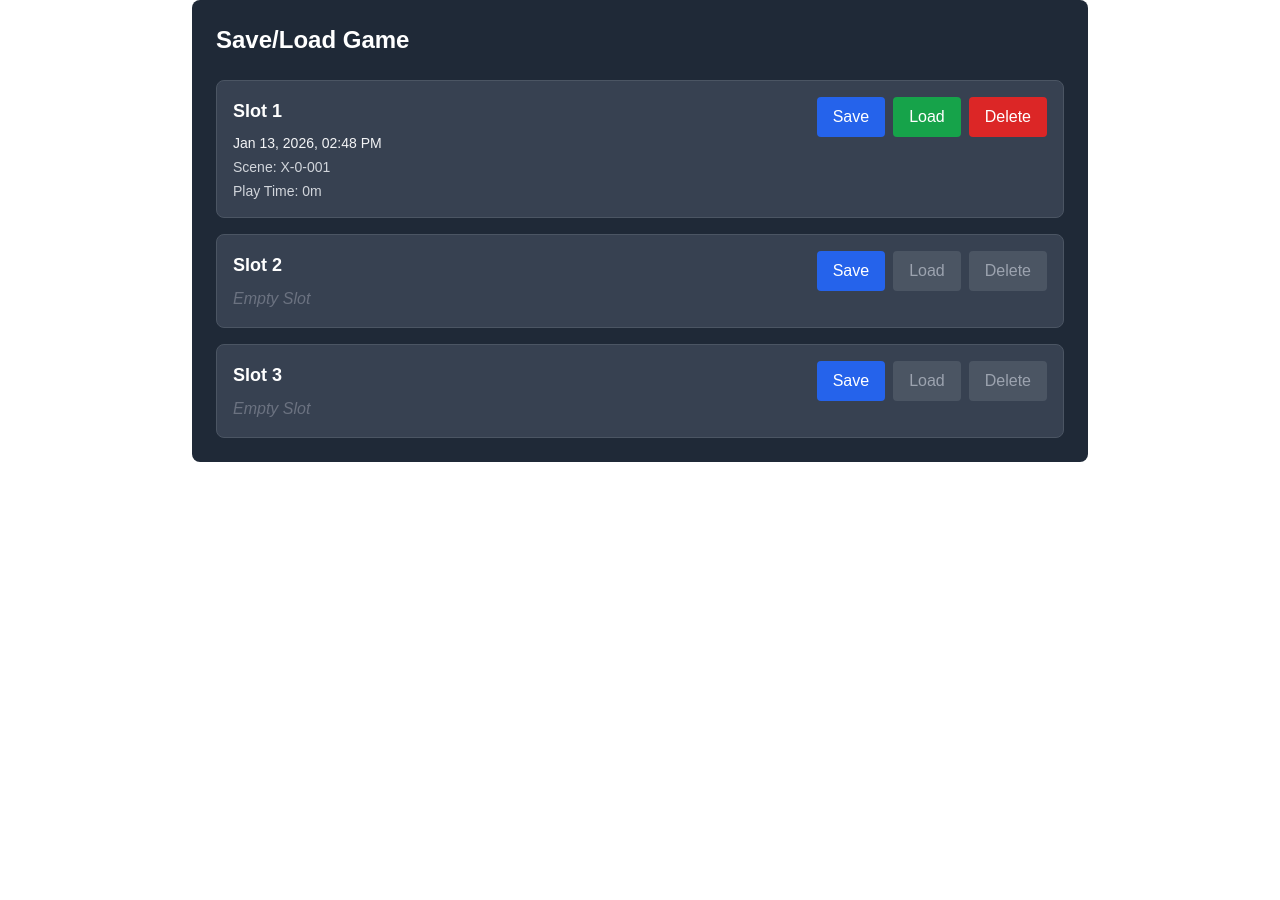
it: SaveLoadMenu › should show confirmation dialog when deleting
This screenshot has width=1280, height=900.
Click the 1st button "Delete": point(1008, 117) [969,97,1047,137]
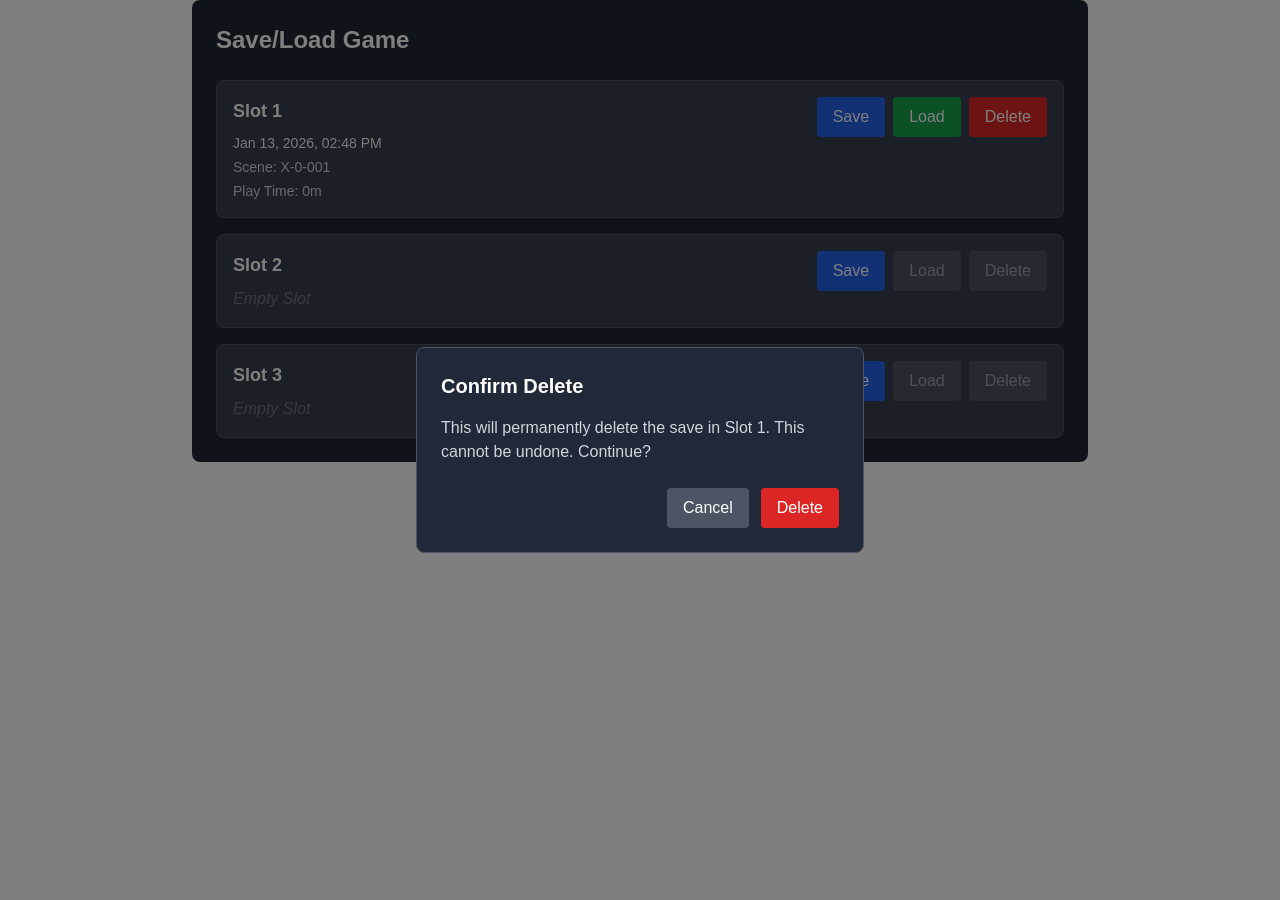
Expected: the heading "Confirm Delete" is shown, [441,375,583,397]
Expected: the text "This cannot be undone" is shown, [441,419,804,460]
